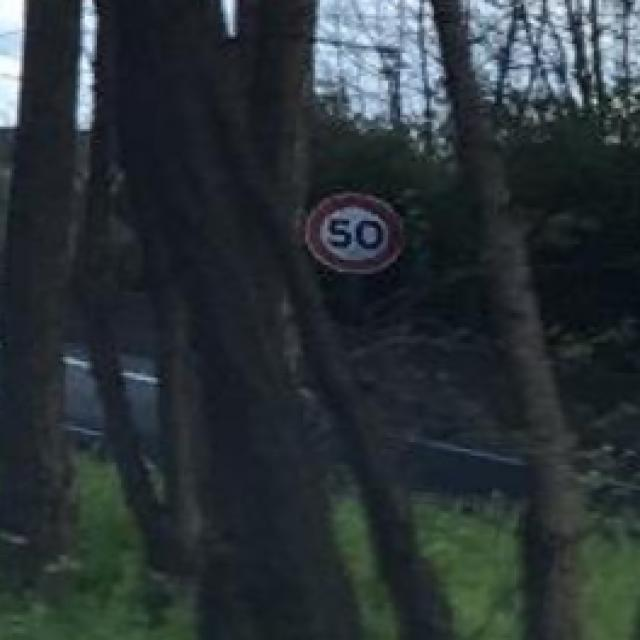speed_50: (309, 190, 402, 273)
